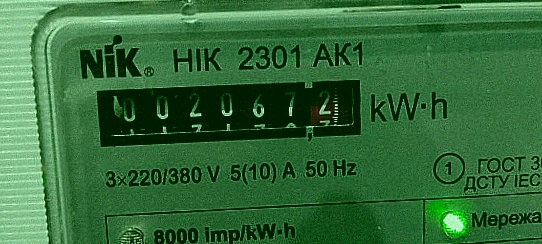0: (118, 94, 138, 124), (215, 88, 235, 116), (152, 91, 171, 120)
2: (314, 86, 334, 116), (185, 89, 204, 119)
6: (248, 89, 268, 119)
7: (281, 88, 299, 118)
screen: (82, 64, 377, 160)
